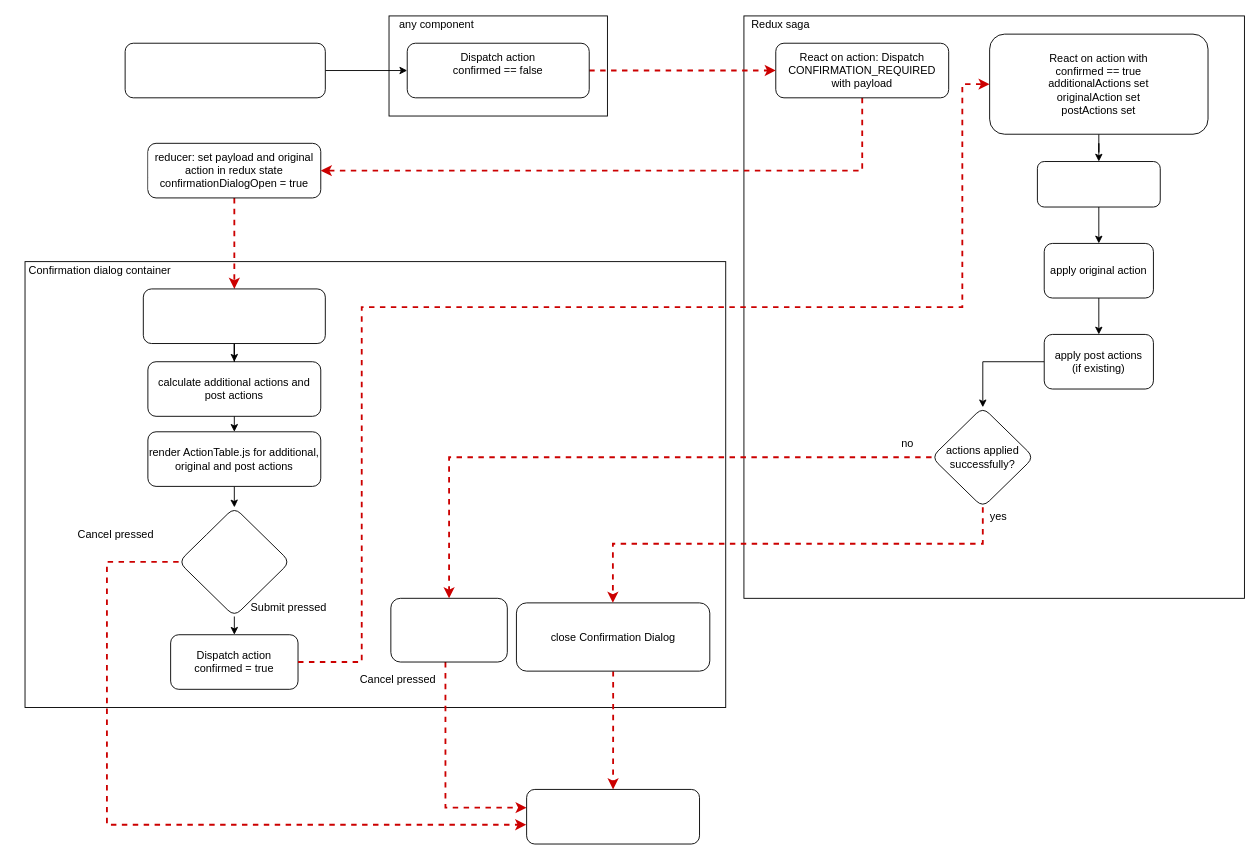
The diagram is 1260 pixels wide and 860 high, and some of its shapes have lost their labels. The shapes that lost their labels are listed below. From the top down, each one's box as (x1, y1, x2, y2) in pixels, then its label:
(124, 42, 325, 98): Start frontend confirmed = false confirmationDialogOpen = false
(1036, 161, 1160, 207): apply additional actions (if existing)
(142, 288, 325, 344): Open confirmation dialog
(178, 506, 290, 617): Which button has been pressed?
(390, 597, 507, 662): Confirmation dialog remains open, show failed action
(526, 789, 700, 844): reducer: reset to defaultState
